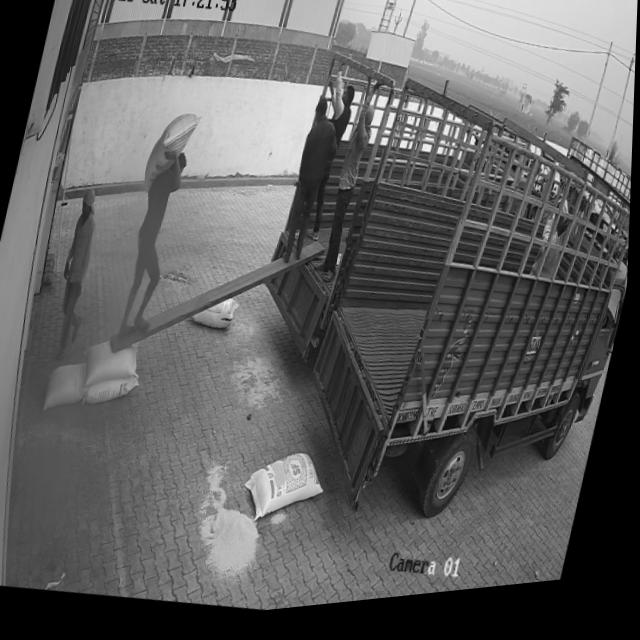sack: (240, 447, 335, 539), (142, 110, 202, 202), (79, 337, 143, 397), (45, 356, 95, 419), (86, 369, 144, 415), (191, 296, 243, 341)
